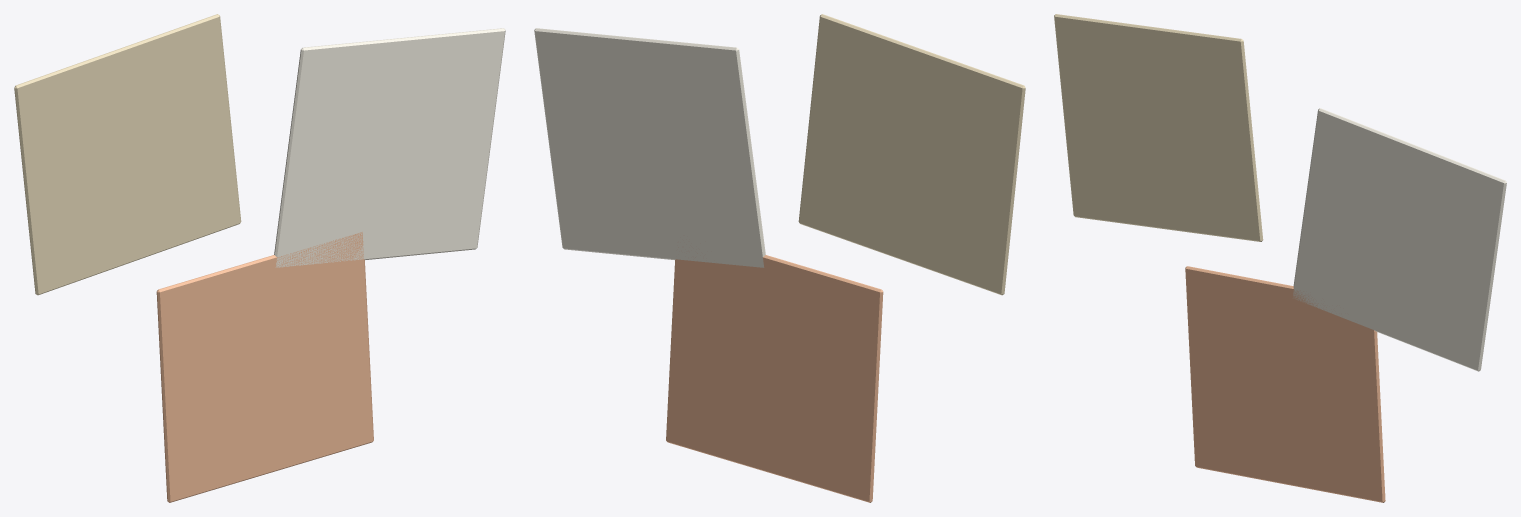
The model's file is notas_adesivas_grupo.glb.
3 views of the same model, side by side, from view 1: azimuth 30°, elevation 25°; view 2: azimuth 150°, elevation 25°; view 3: azimuth 330°, elevation 25° (orthographic). The views are drawn at different scales.
Parts seen in each view (by area): view 1: notas_adesivas_grupo; view 2: notas_adesivas_grupo; view 3: notas_adesivas_grupo.
Part boxes in pixels (box(x1,y1,x2,y2)): notas_adesivas_grupo: box(14, 14, 505, 502); notas_adesivas_grupo: box(534, 14, 1025, 502); notas_adesivas_grupo: box(1054, 14, 1506, 502).
Bounding box in the file's own units: 0.1784 × 0.1655 × 0.0016.
1 material, 1 textured.
